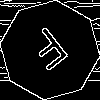F: (25, 25, 77, 79)
